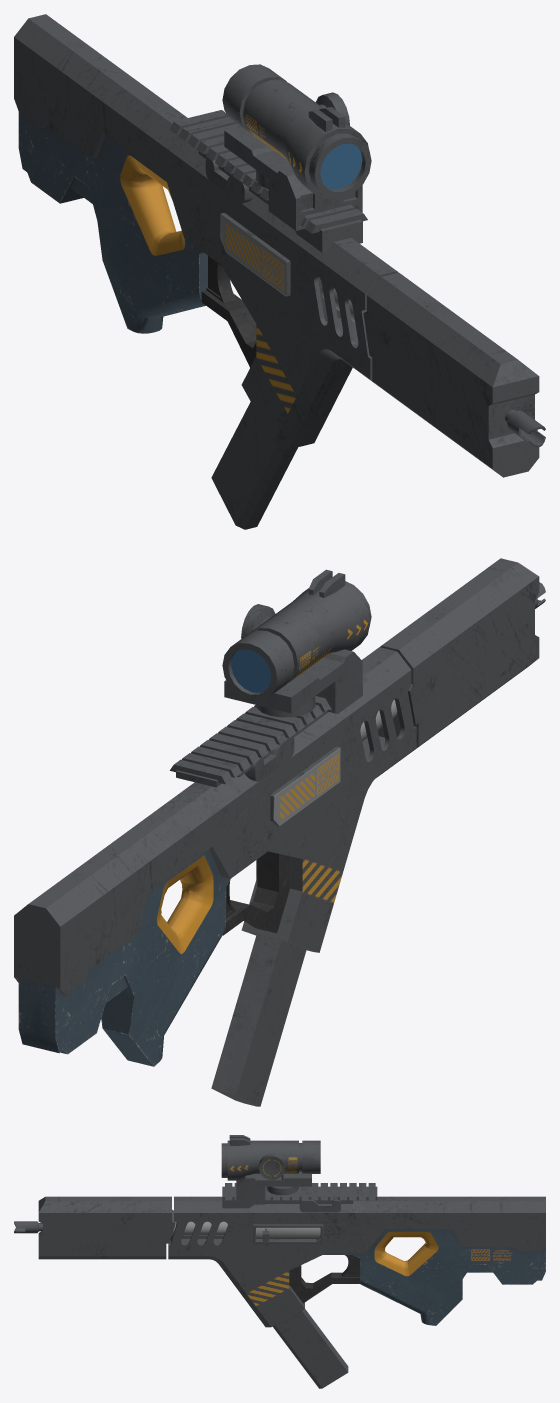
File: sci ar.fbx
The picture shows the model from 3 angles, top to bottom: view 1: azimuth 30°, elevation 25°; view 2: azimuth 150°, elevation 25°; view 3: azimuth 270°, elevation 25°; orthographic projection. The views are drawn at different scales.
Visible parts, largest first — view 1: Cube.015, Cylinder.006, Cube.016; view 2: Cube.015, Cylinder.006, Cube.016; view 3: Cube.015, Cylinder.006, Cube.016.
Boxes of the visible parts, x1,y1,x2,y2 form: Cube.015: [14, 14, 545, 477]; Cylinder.006: [222, 64, 371, 230]; Cube.016: [211, 402, 297, 529]; Cube.015: [14, 558, 545, 1066]; Cylinder.006: [222, 569, 371, 717]; Cube.016: [211, 934, 306, 1106]; Cube.015: [14, 1183, 545, 1327]; Cylinder.006: [221, 1135, 320, 1204]; Cube.016: [272, 1309, 348, 1388].
Bounding box in the file's own units: 25.29 × 144 × 278.
